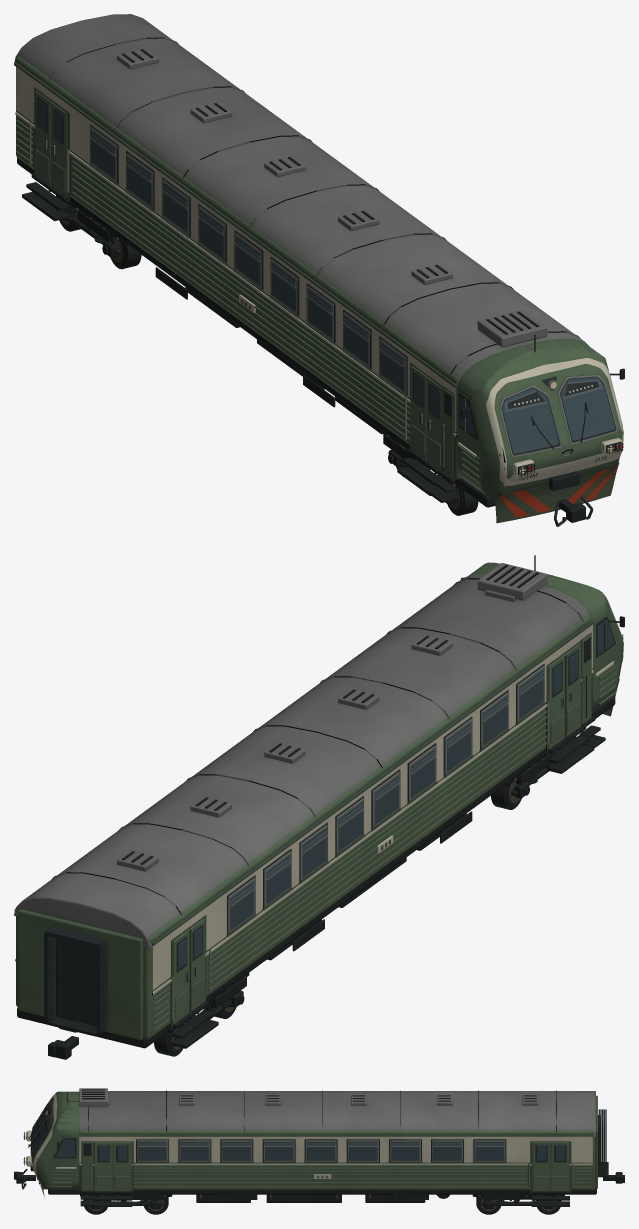
The model's file is ed4m_head.glb.
The picture shows the model from 3 angles, top to bottom: view 1: azimuth 30°, elevation 25°; view 2: azimuth 150°, elevation 25°; view 3: azimuth 270°, elevation 25°; orthographic projection. The views are drawn at different scales.
Parts seen in each view (by area): view 1: ED4M_head.001; view 2: ED4M_head.001; view 3: ED4M_head.001.
Part boxes in pixels (x1,y1,x2,y2): ED4M_head.001: [14, 14, 624, 526]; ED4M_head.001: [14, 555, 624, 1059]; ED4M_head.001: [14, 1088, 624, 1214].
Bounding box in the file's own units: 4.26 × 4.55 × 23.49.
Materials: 14 (14 with a texture image).
